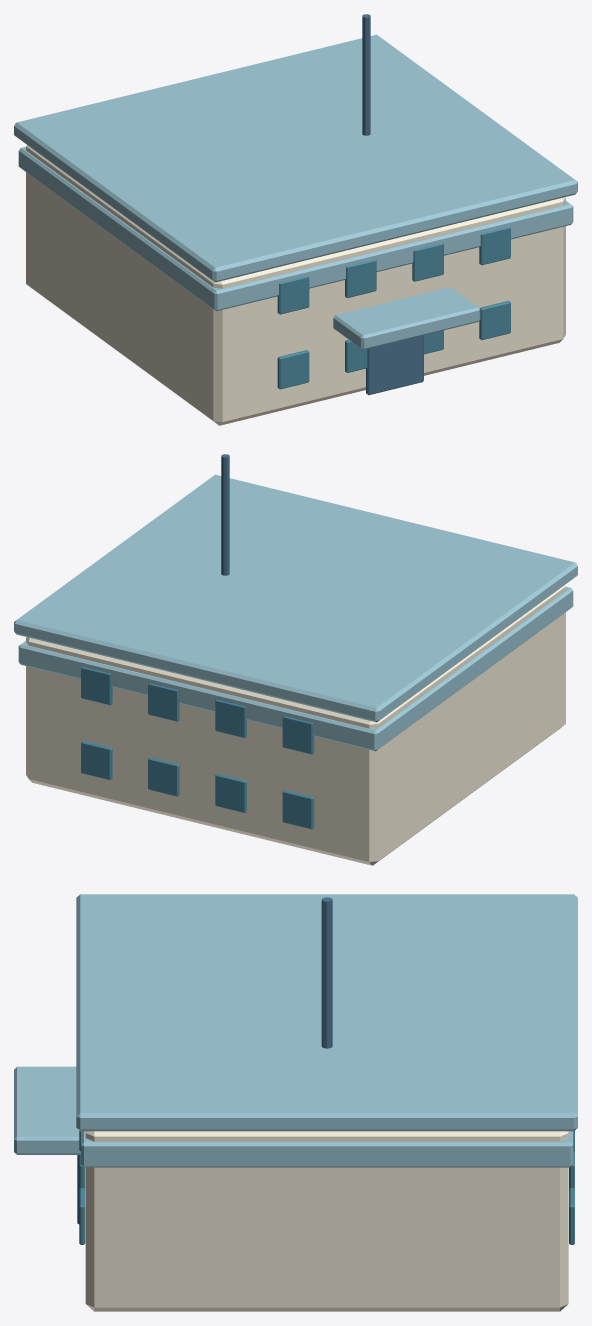
File: CIV_POLICE_2x2_001.glb
3 renders of one model, top to bottom at view 1: azimuth 30°, elevation 25°; view 2: azimuth 150°, elevation 25°; view 3: azimuth 270°, elevation 25°, orthographic. The views are drawn at different scales.
Visible parts, largest first — view 1: CIV_POLICE_2x2_001_Visual; view 2: CIV_POLICE_2x2_001_Visual; view 3: CIV_POLICE_2x2_001_Visual.
Part boxes in pixels (x1,y1,x2,y2): CIV_POLICE_2x2_001_Visual: [14, 14, 577, 425]; CIV_POLICE_2x2_001_Visual: [14, 454, 577, 865]; CIV_POLICE_2x2_001_Visual: [14, 894, 577, 1311].
Size of what is drawn, in the model's own units: 3.37 by 2.49 by 3.62.
